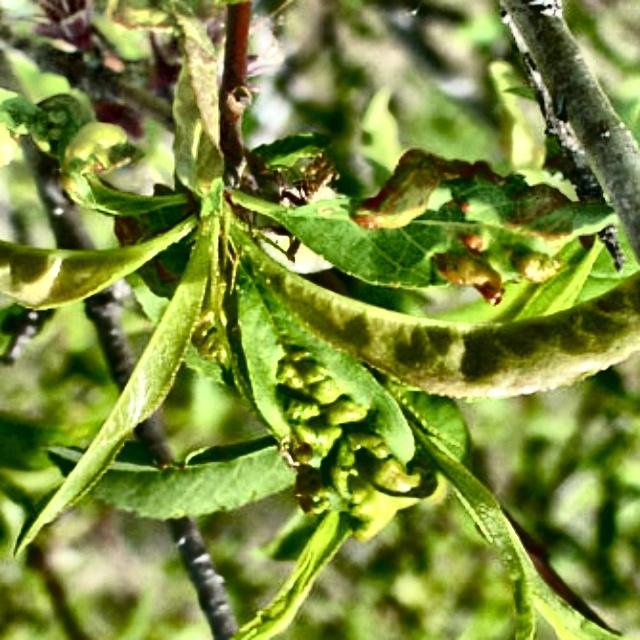leaf_curl: (189, 323, 444, 533), (330, 140, 585, 316)
